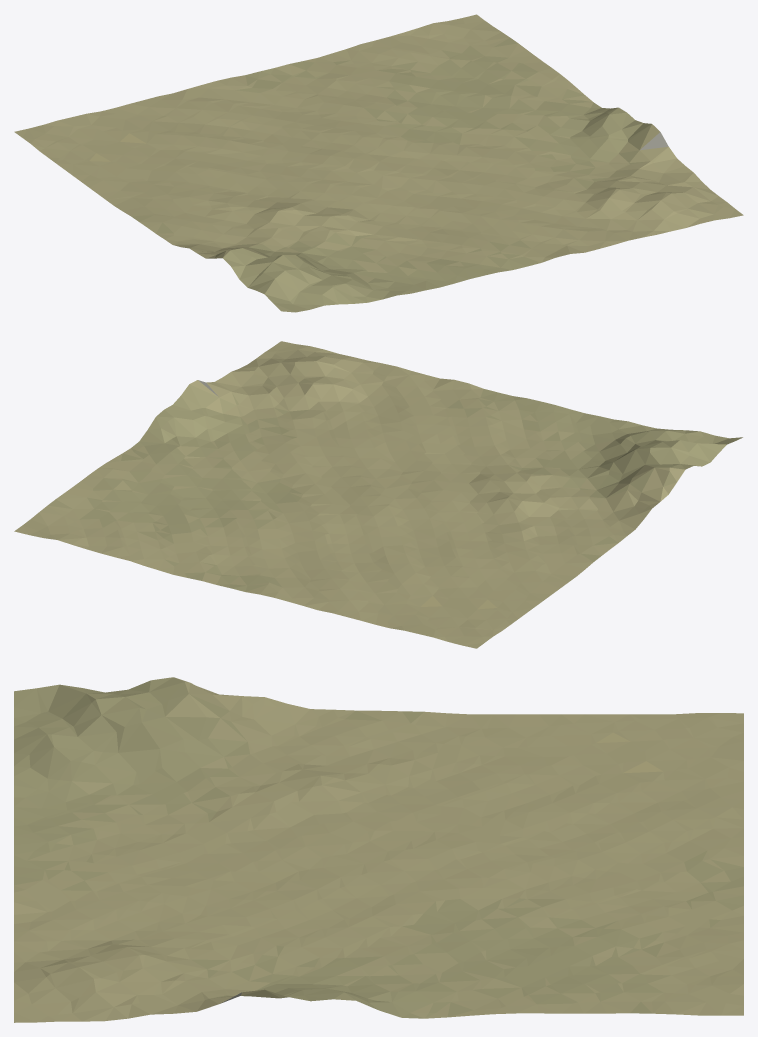
The model's file is Ground_-4_-8.glb.
3 renders of one model, top to bottom at view 1: azimuth 30°, elevation 25°; view 2: azimuth 150°, elevation 25°; view 3: azimuth 270°, elevation 25°, orthographic. The views are drawn at different scales.
Visible parts, largest first — view 1: Ground_-4_-8; view 2: Ground_-4_-8; view 3: Ground_-4_-8.
Part boxes in pixels (box(x1,y1,x2,y2)): Ground_-4_-8: box(14, 14, 743, 312); Ground_-4_-8: box(14, 341, 742, 648); Ground_-4_-8: box(14, 677, 743, 1022).
Bounding box in the file's own units: 768 × 46.5 × 768.
